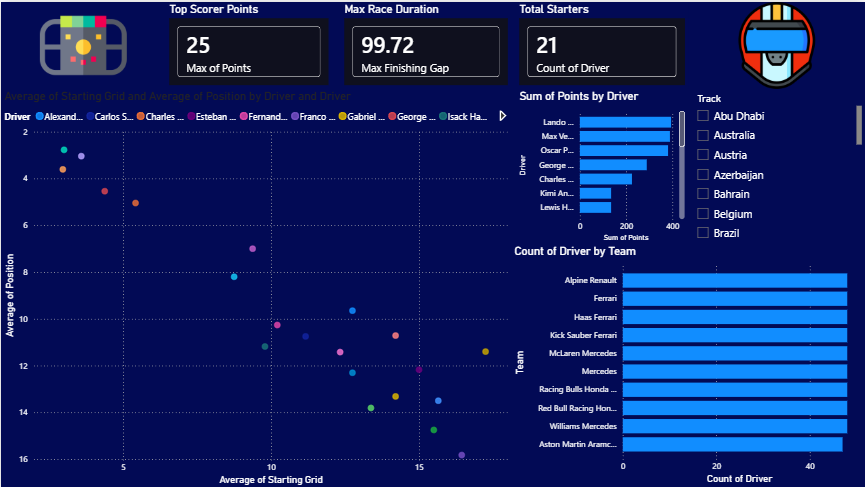

The page's visual inventory and layout, read from the dashboard file:
{"tool":"powerbi","page":{"name":"Page 1","canvas":[1280,720],"ordinal":0},"visuals":[{"type":"cardVisual","title":"Max Race Duration","fields":{"Data":["Max(cleaned_formula1_data.Time Gap (seconds))"]},"box":[503.6,0,252.5,129],"z":0},{"type":"cardVisual","title":"Total Starters","fields":{"Data":["Count(cleaned_formula1_data.Driver)"]},"box":[763,0,255.2,129],"z":1000},{"type":"cardVisual","title":"Top Scorer Points","fields":{"Data":["Max(cleaned_formula1_data.Points)"]},"box":[244.3,0,247,129],"z":2000},{"type":"scatterChart","fields":{"X":["Avg(cleaned_formula1_data.Starting Grid)"],"Y":["Avg(cleaned_formula1_data.Position)"],"Category":["cleaned_formula1_data.Driver"],"Series":["cleaned_formula1_data.Driver"]},"box":[0,129,763,591.4],"z":3000},{"type":"barChart","fields":{"Category":["cleaned_formula1_data.Team"],"Y":["CountNonNull(cleaned_formula1_data.Driver)"]},"box":[756.1,359.5,524.2,360.9],"z":4000},{"type":"clusteredBarChart","fields":{"Category":["cleaned_formula1_data.Driver"],"Y":["Sum(cleaned_formula1_data.Points)"]},"box":[763,129,255,231],"z":5000},{"type":"slicer","fields":{"Values":["cleaned_formula1_data.Track"]},"box":[1018,129,262,231],"z":6000},{"type":"image","box":[1018.2,0,262.1,129],"z":6001},{"type":"image","box":[0,0,244.3,129],"z":6002}]}

Visuals, with their boxes in screenshot pixels (x1, y1, x2, y2), scaled from the page's 1280x720 canvas onto the 865x487 screenshot:
"Max Race Duration" cardVisual: [340, 0, 511, 87]
"Total Starters" cardVisual: [516, 0, 688, 87]
"Top Scorer Points" cardVisual: [165, 0, 332, 87]
scatterChart - Avg(cleaned_formula1_data.Starting Grid) x Avg(cleaned_formula1_data.Position): [0, 87, 516, 486]
barChart - cleaned_formula1_data.Team x CountNonNull(cleaned_formula1_data.Driver): [511, 243, 864, 486]
clusteredBarChart - cleaned_formula1_data.Driver x Sum(cleaned_formula1_data.Points): [516, 87, 688, 244]
slicer - cleaned_formula1_data.Track: [688, 87, 864, 244]
image: [688, 0, 864, 87]
image: [0, 0, 165, 87]
